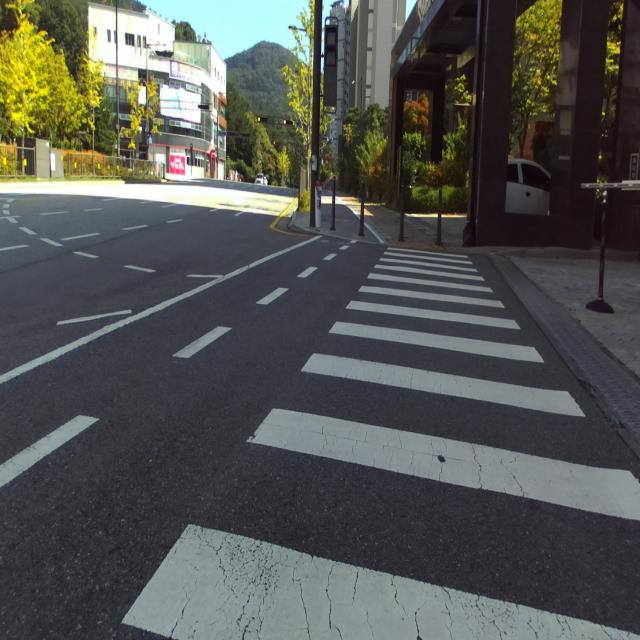횡단보도: (121, 246, 639, 640)
